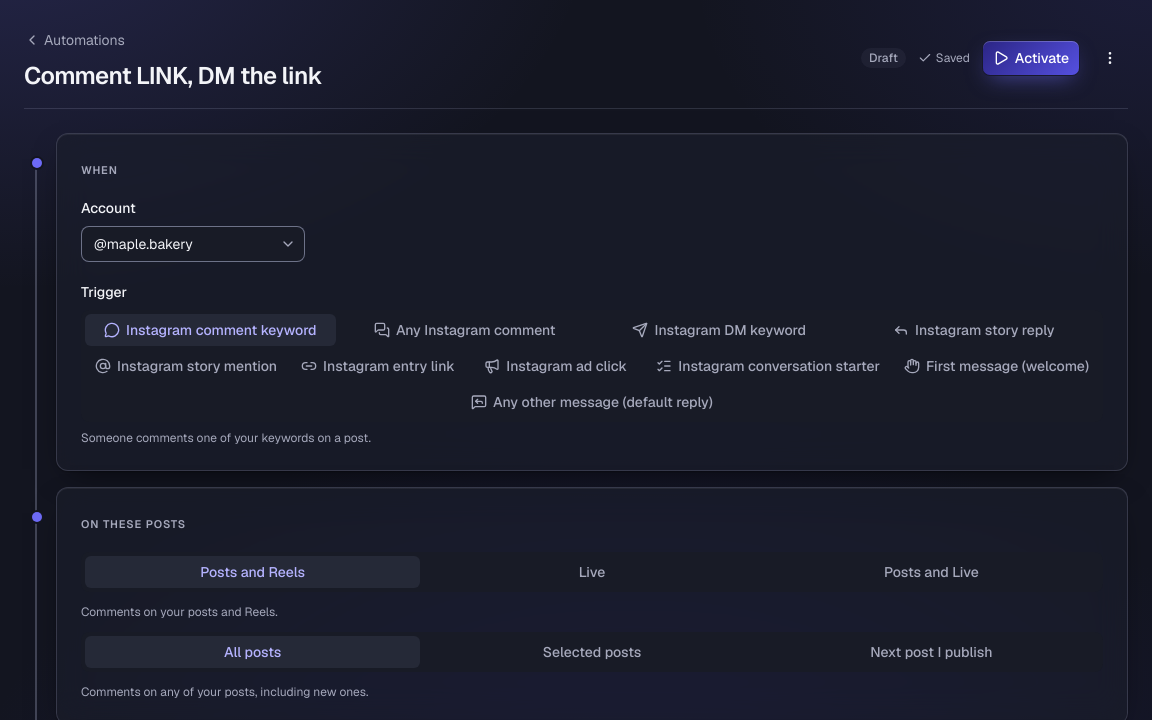
Test: AutomationEditor activation (FR-AUT-02) › ⋯ Delete is a destructive item; cancelling its confirmation puts focus back on ⋯
Click the button named "More actions".
click(1110, 58)  # box [1092,40,1128,76]
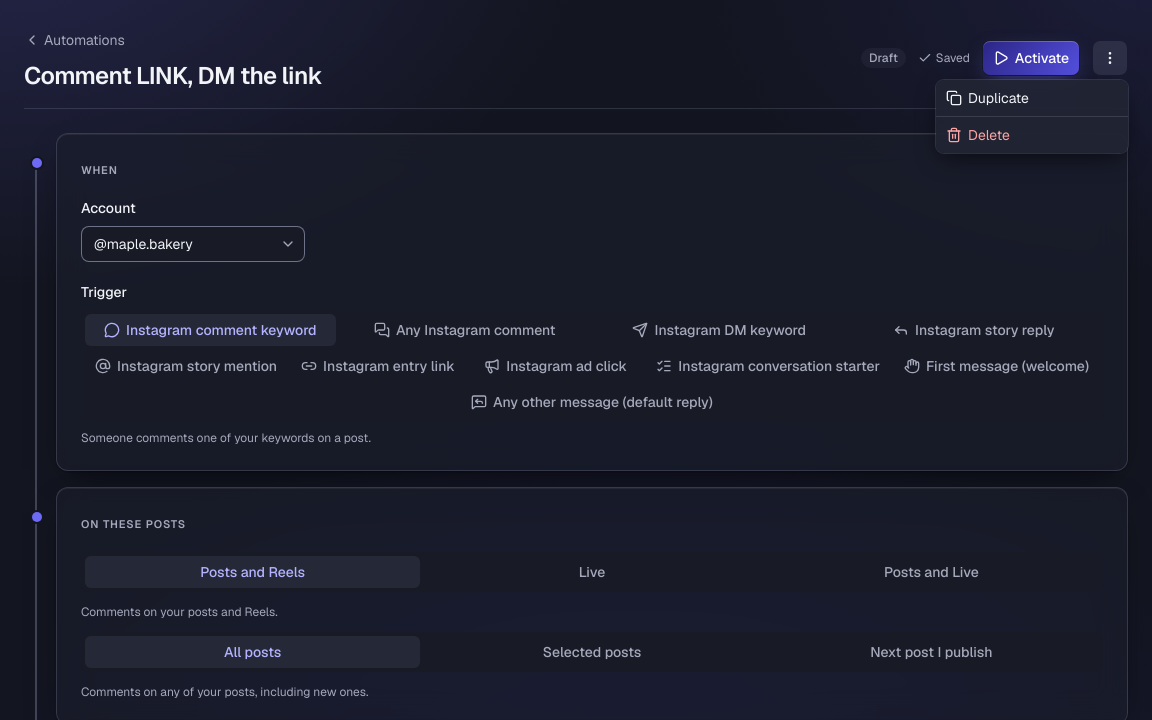
Click the menu item "Delete".
click(978, 135)  # box [946,126,1010,144]
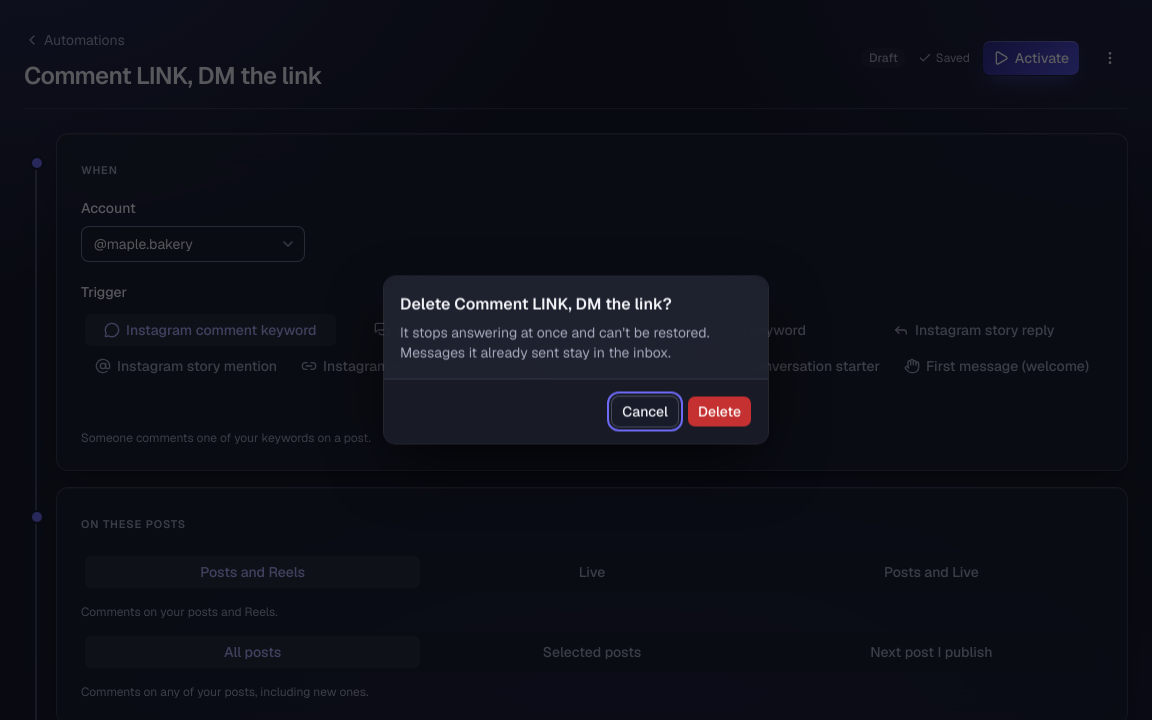
Click the button "Cancel".
click(645, 412)  # box [611,396,679,428]
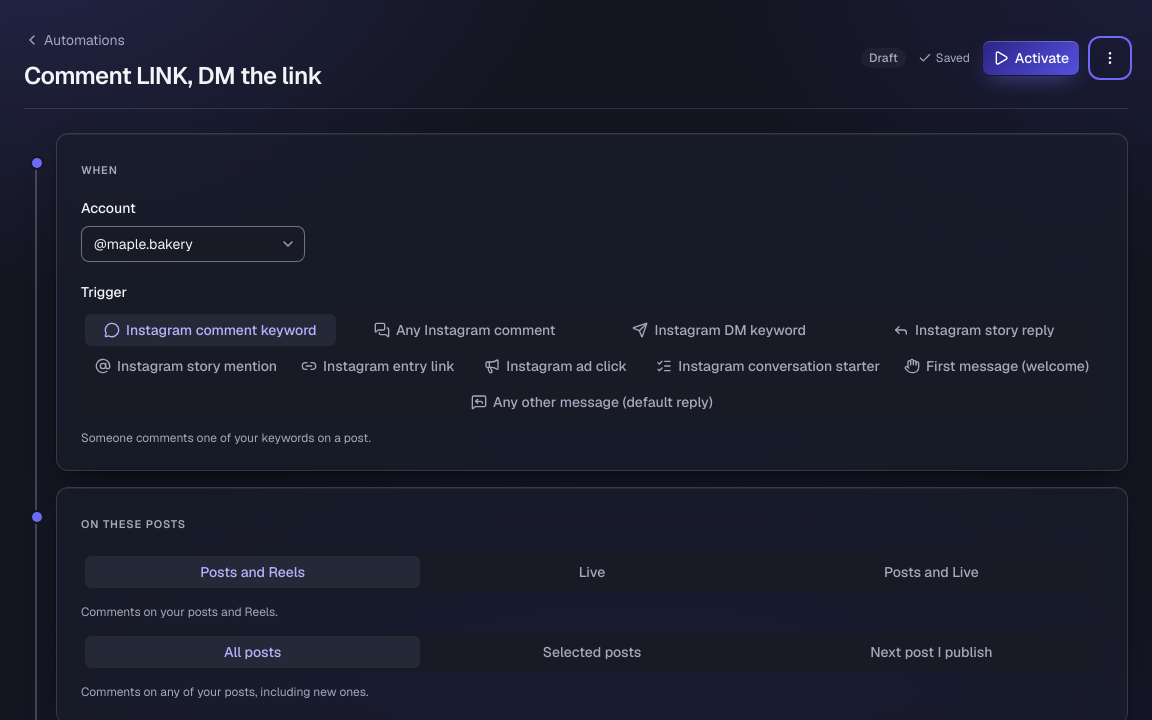
Result: the dialog is gone
